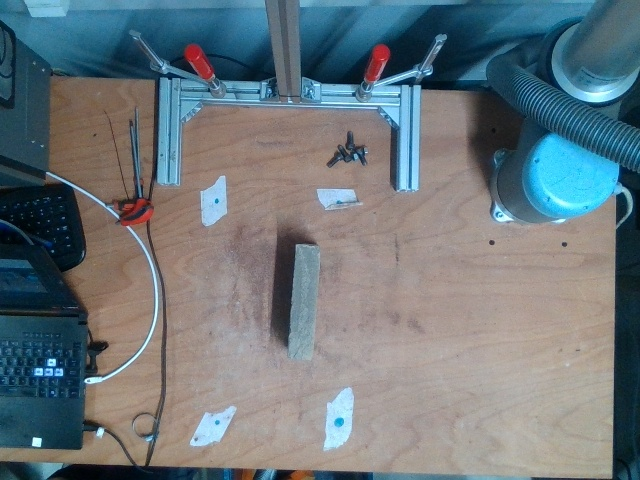brick-side: (286, 243, 321, 357)
